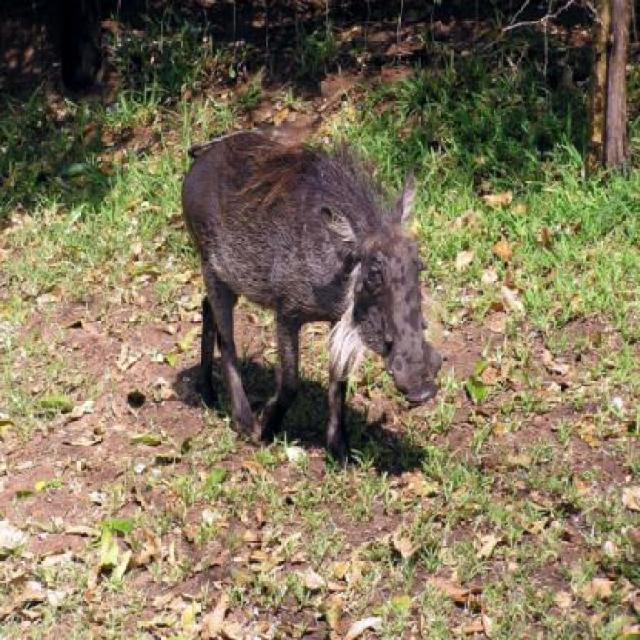WildBoar: (165, 101, 477, 442)
